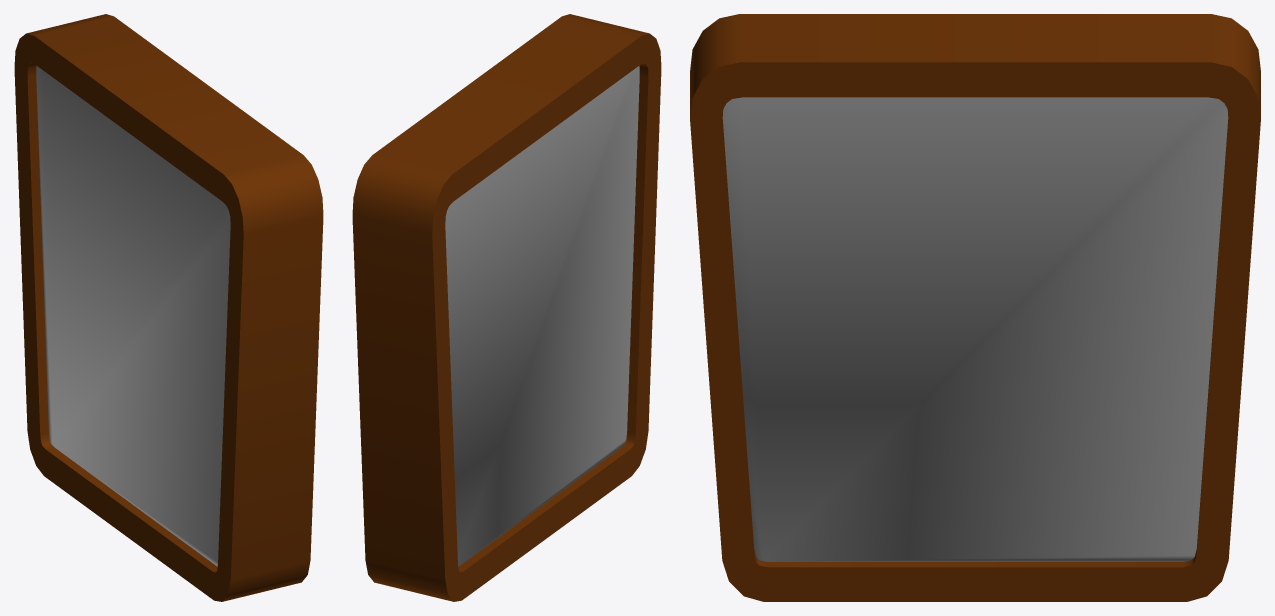
File: Chlebek_2.fbx
The picture shows the model from 3 angles, left to right: view 1: azimuth 30°, elevation 25°; view 2: azimuth 150°, elevation 25°; view 3: azimuth 270°, elevation 25°; orthographic projection. The views are drawn at different scales.
Parts seen in each view (by area): view 1: chlebek_2; view 2: chlebek_2; view 3: chlebek_2.
Part boxes in pixels (x1=…): chlebek_2: x1=14, y1=14, x2=323, y2=601; chlebek_2: x1=352, y1=14, x2=661, y2=601; chlebek_2: x1=690, y1=14, x2=1260, y2=601.
Size of the model in its own units: 39.53 by 205 by 196.
